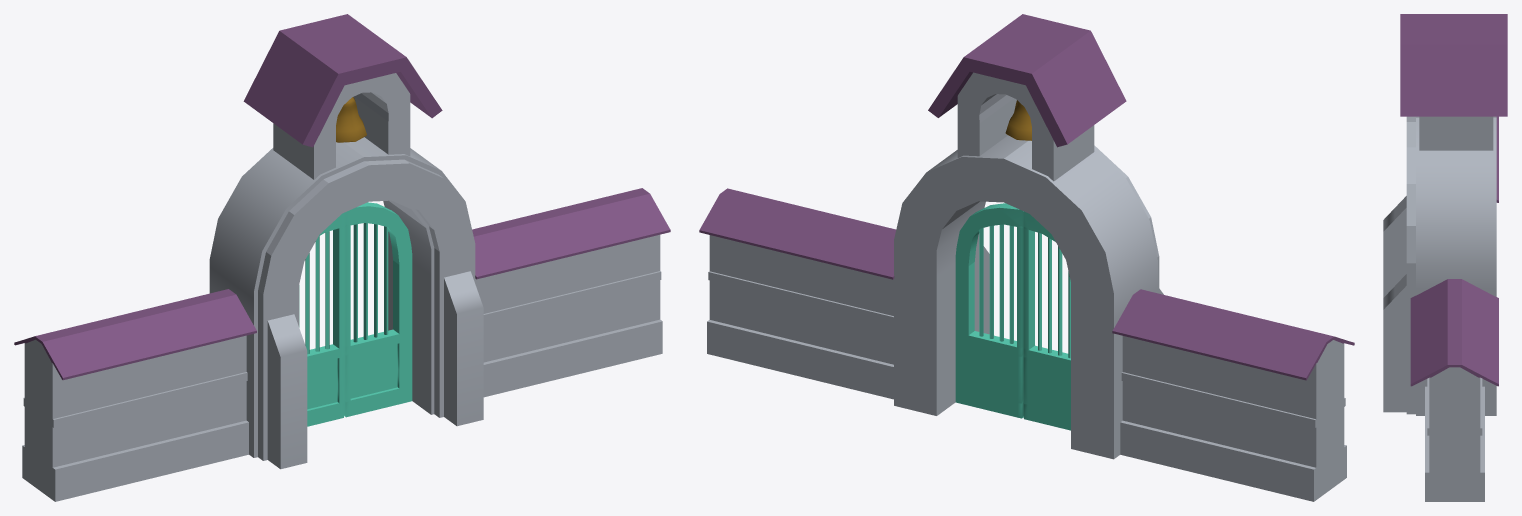
File: Gate.fbx
3 views of the same model, side by side, from view 1: azimuth 30°, elevation 25°; view 2: azimuth 150°, elevation 25°; view 3: azimuth 270°, elevation 25° (orthographic). The views are drawn at different scales.
Visible parts, largest first — view 1: Gateframe, WallSmall2, WallSmall1, Door, Bell; view 2: Gateframe, WallSmall2, WallSmall1, Door, Bell; view 3: Gateframe, WallSmall1, WallSmall2.
Boxes of the visible parts, x1=… form: Gateframe: x1=209, y1=14, x2=483, y2=469; WallSmall2: x1=14, y1=289, x2=256, y2=501; WallSmall1: x1=472, y1=188, x2=670, y2=397; Door: x1=299, y1=202, x2=412, y2=426; Bell: x1=336, y1=97, x2=366, y2=142; Gateframe: x1=894, y1=14, x2=1163, y2=459; WallSmall2: x1=1112, y1=289, x2=1354, y2=501; WallSmall1: x1=699, y1=188, x2=895, y2=399; Door: x1=955, y1=203, x2=1070, y2=430; Bell: x1=1005, y1=100, x2=1031, y2=140; Gateframe: x1=1383, y1=14, x2=1507, y2=415; WallSmall1: x1=1410, y1=279, x2=1498, y2=501; WallSmall2: x1=1496, y1=116, x2=1498, y2=202.
Bounding box in the file's own units: 1183 × 692 × 231.
